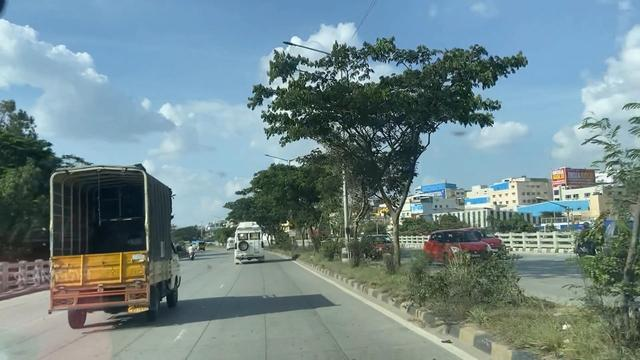HMV: (45, 162, 186, 333), (232, 219, 272, 269)
